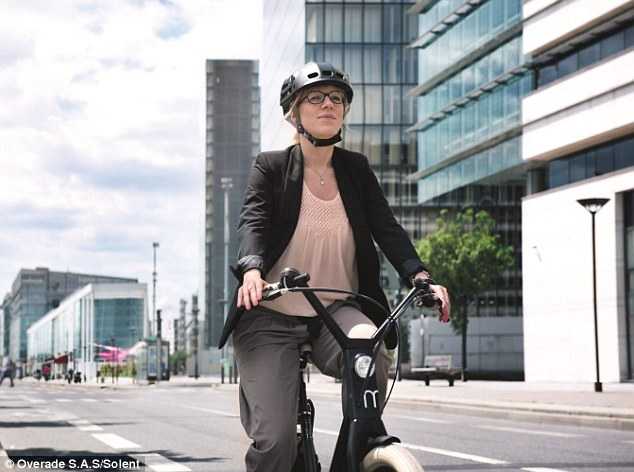with_helmet: (280, 61, 353, 111)
